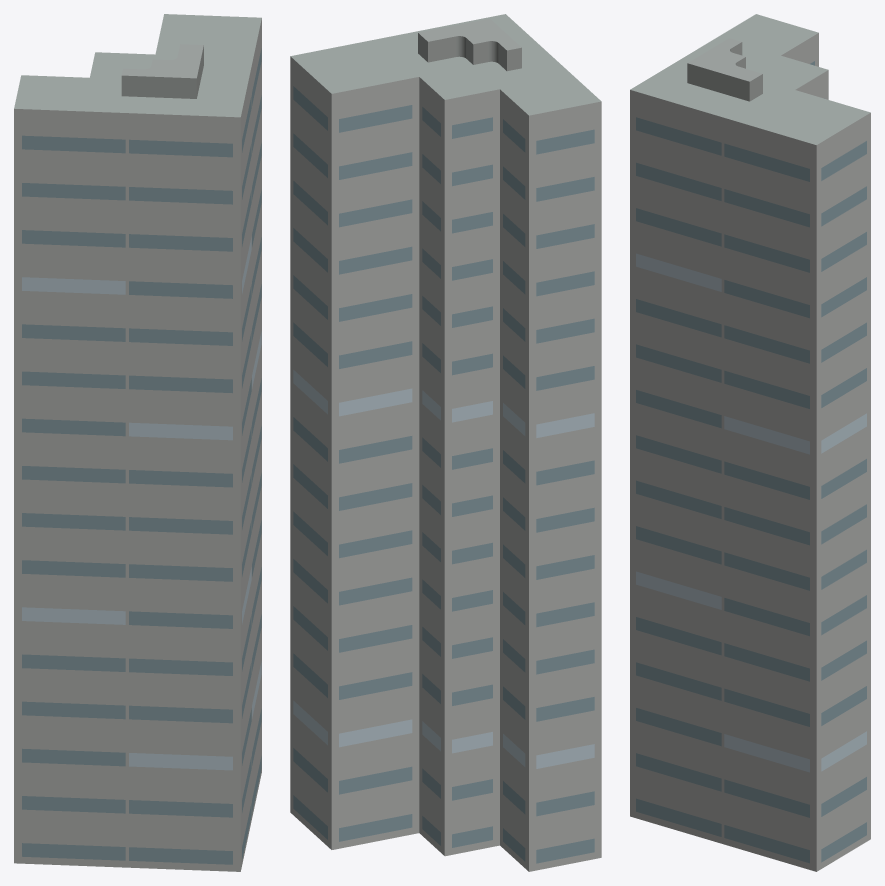
Rendered from fallback-prestige-111.glb.
3 renders of one model, left to right at view 1: azimuth 30°, elevation 25°; view 2: azimuth 150°, elevation 25°; view 3: azimuth 270°, elevation 25°, orthographic. The views are drawn at different scales.
Parts seen in each view (by area): view 1: fallback-prestige-111; view 2: fallback-prestige-111; view 3: fallback-prestige-111.
Boxes of the visible parts, bbox=[...] form: fallback-prestige-111: bbox=[14, 14, 261, 871]; fallback-prestige-111: bbox=[290, 14, 601, 871]; fallback-prestige-111: bbox=[630, 14, 870, 871].
Bounding box in the file's own units: 33.93 × 90 × 26.33.
